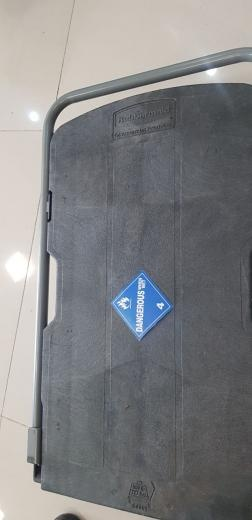Dangerous when wet: (111, 272, 174, 342)
